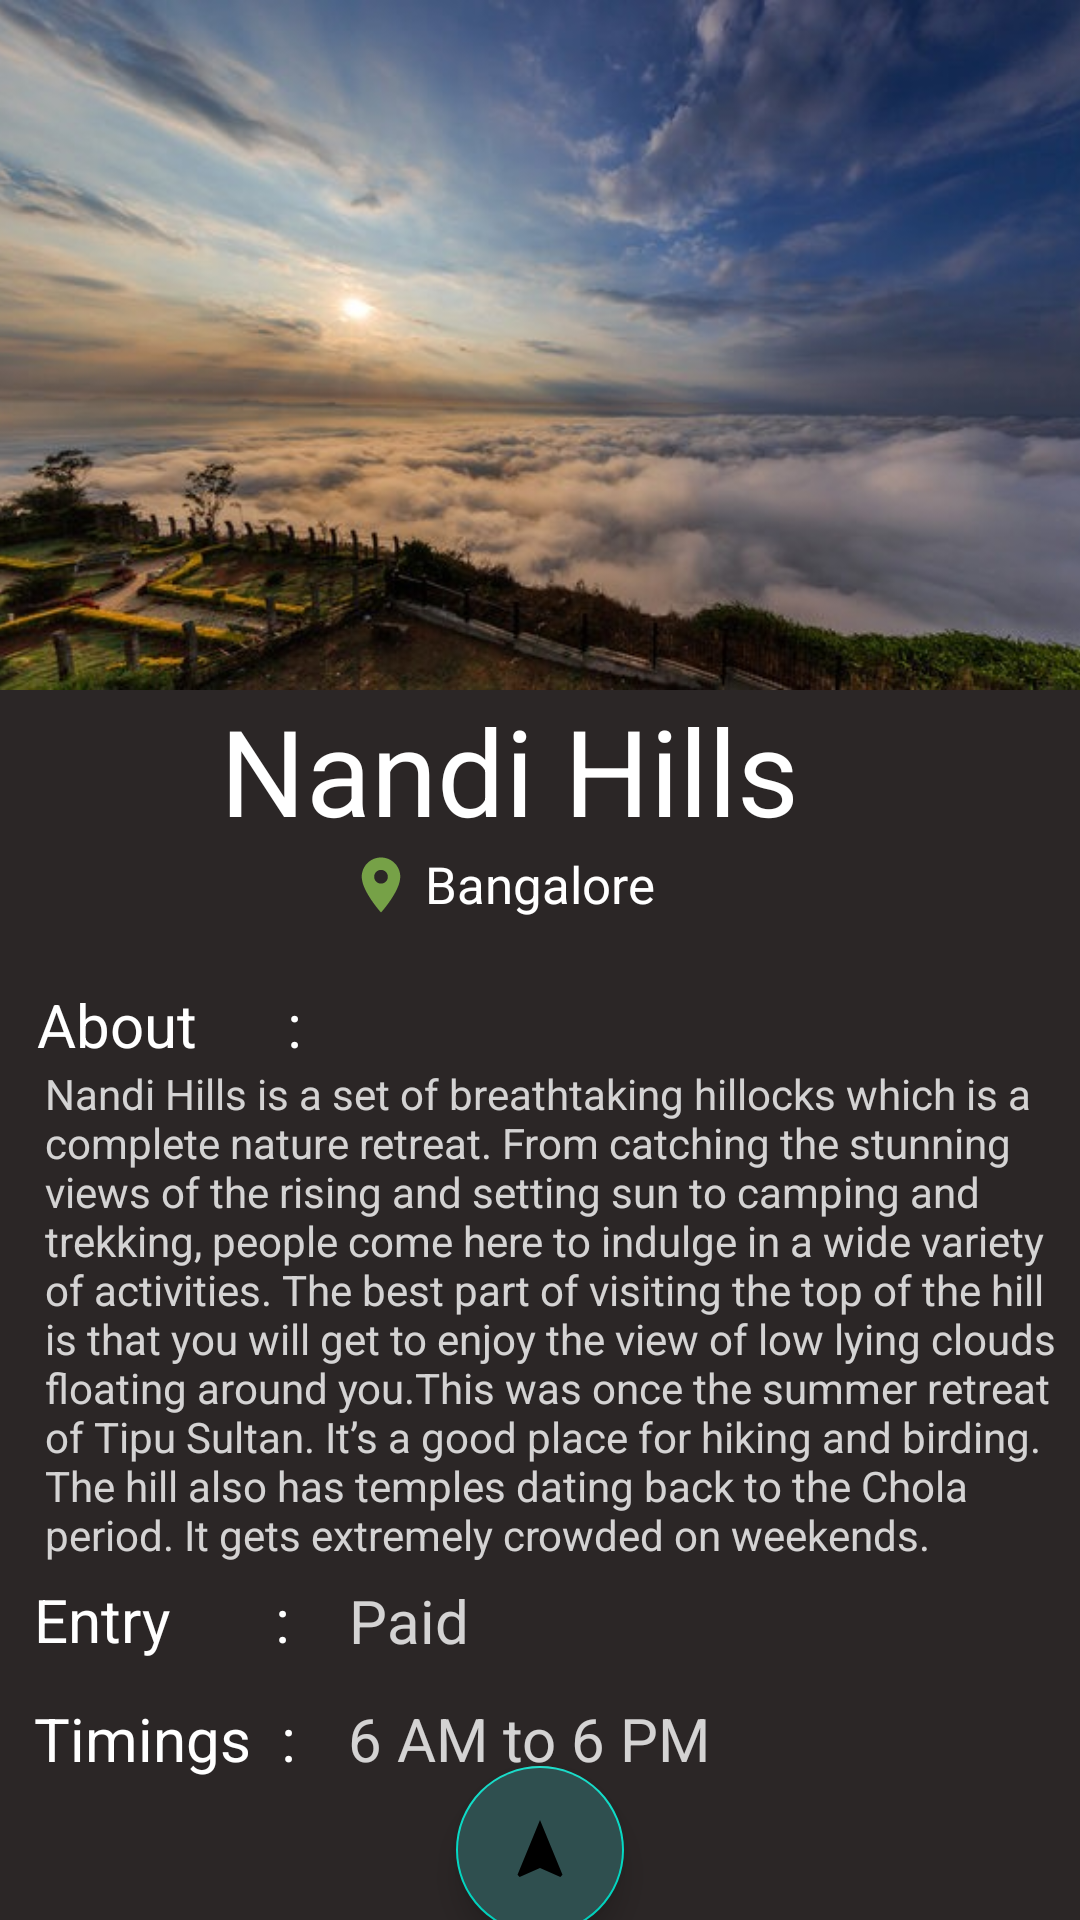

Locate icon controls on the screen. Image size 1080 × 1920, boxes as region(x1, y1, x2, y2).
location: region(361, 857, 401, 912)
navigation: region(456, 1766, 624, 1920)
